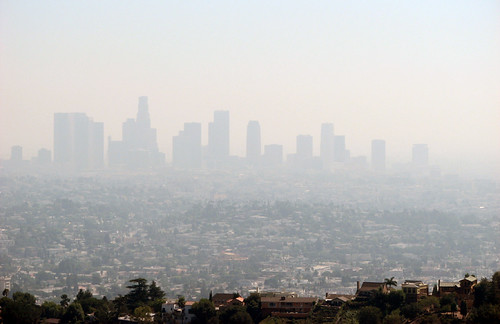building: (108, 105, 162, 169), (55, 108, 106, 167), (256, 291, 317, 320), (170, 118, 202, 162), (317, 120, 350, 162), (205, 112, 228, 160), (318, 288, 355, 316), (439, 275, 483, 297), (357, 277, 389, 307), (403, 276, 434, 304), (365, 134, 386, 172), (244, 119, 264, 155), (410, 141, 432, 172), (295, 132, 314, 161), (265, 141, 284, 162)
sky: (1, 1, 500, 131)
vegetation: (1, 275, 161, 324)
